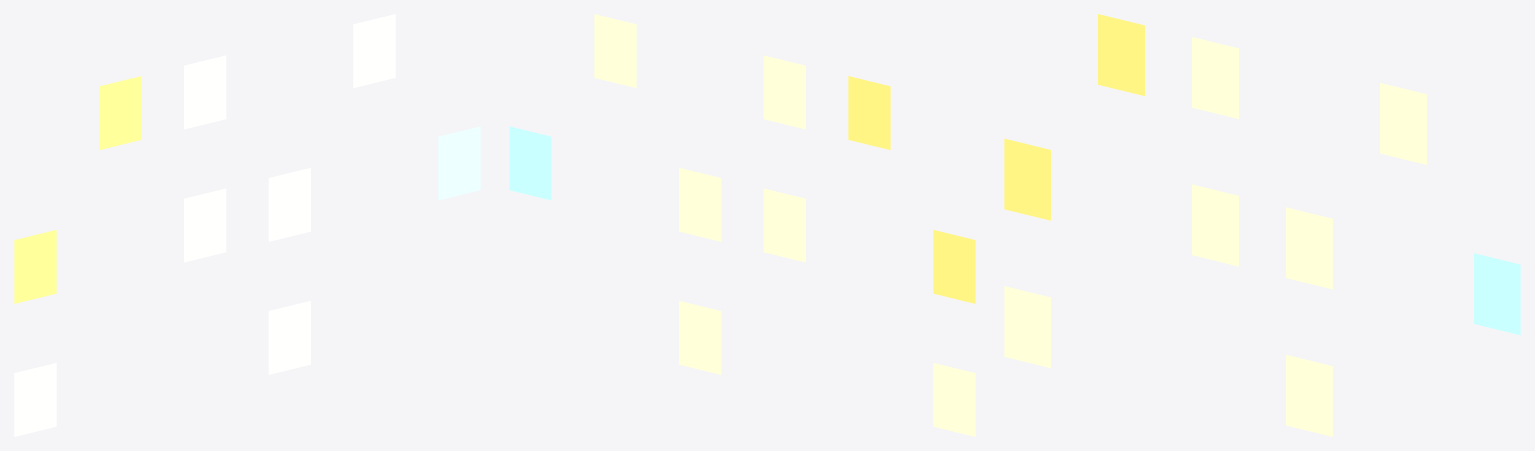
File: window-lights-4.glb
The picture shows the model from 3 angles, left to right: view 1: azimuth 30°, elevation 25°; view 2: azimuth 150°, elevation 25°; view 3: azimuth 330°, elevation 25°; orthographic projection. The views are drawn at different scales.
Parts seen in each view (by area): view 1: window warm, window amber, window tv; view 2: window warm, window amber, window tv; view 3: window warm, window amber, window tv.
Part boxes in pixels (box(x1,y1,x2,y2)): window warm: box(14, 14, 395, 436); window amber: box(14, 76, 141, 303); window tv: box(438, 126, 480, 200); window warm: box(594, 14, 975, 436); window amber: box(848, 76, 975, 303); window tv: box(509, 126, 551, 200); window warm: box(1004, 37, 1426, 436); window amber: box(1004, 14, 1144, 220); window tv: box(1474, 253, 1520, 335).
Bounding box in the file's own units: 0.9167 × 0.62 × 0.
